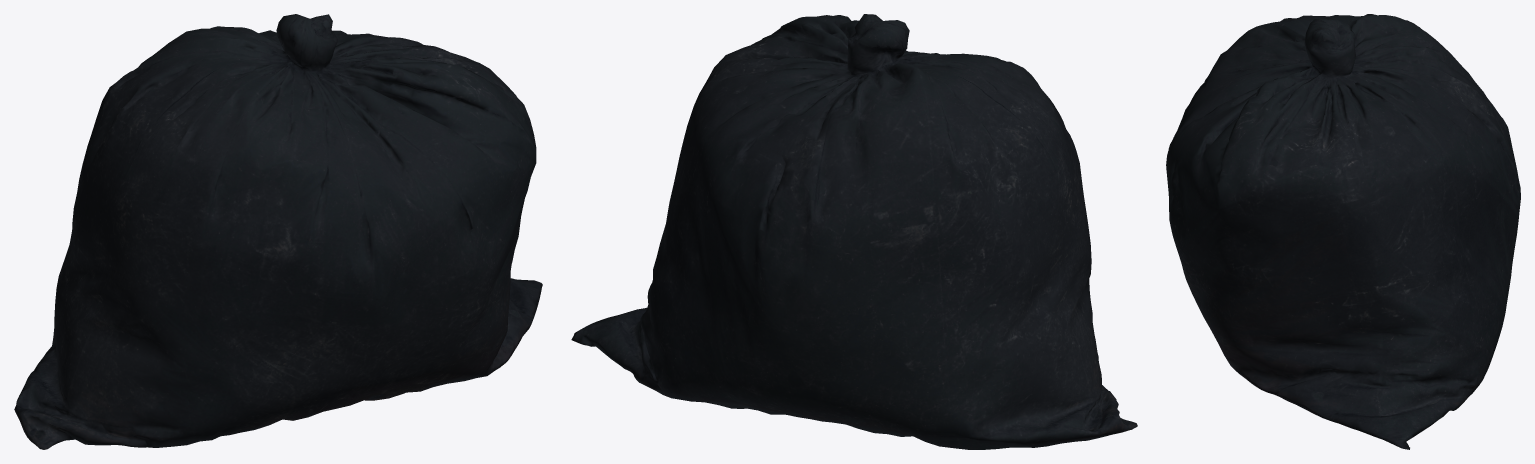
The model's file is trash_bag_vcblbchga_high.glb.
3 views of the same model, side by side, from view 1: azimuth 30°, elevation 25°; view 2: azimuth 150°, elevation 25°; view 3: azimuth 270°, elevation 25° (orthographic). The views are drawn at different scales.
Visible parts, largest first — view 1: vcblbchga_LOD0_TIER1_000; view 2: vcblbchga_LOD0_TIER1_000; view 3: vcblbchga_LOD0_TIER1_000.
Part boxes in pixels (x1,y1,x2,y2): vcblbchga_LOD0_TIER1_000: [14, 14, 542, 449]; vcblbchga_LOD0_TIER1_000: [571, 14, 1137, 449]; vcblbchga_LOD0_TIER1_000: [1166, 14, 1520, 449].
Size of the model in its own units: 0.6809 by 0.4429 by 0.4502.
Materials: 1 (1 with a texture image).
